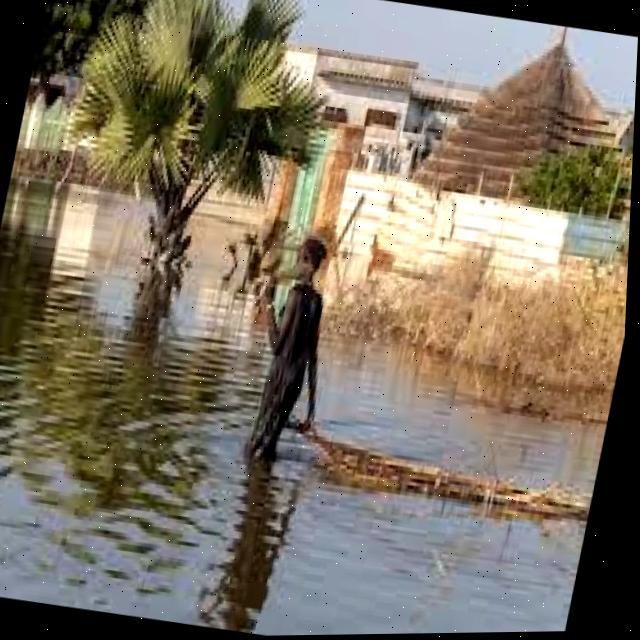civilian: (209, 225, 351, 478)
